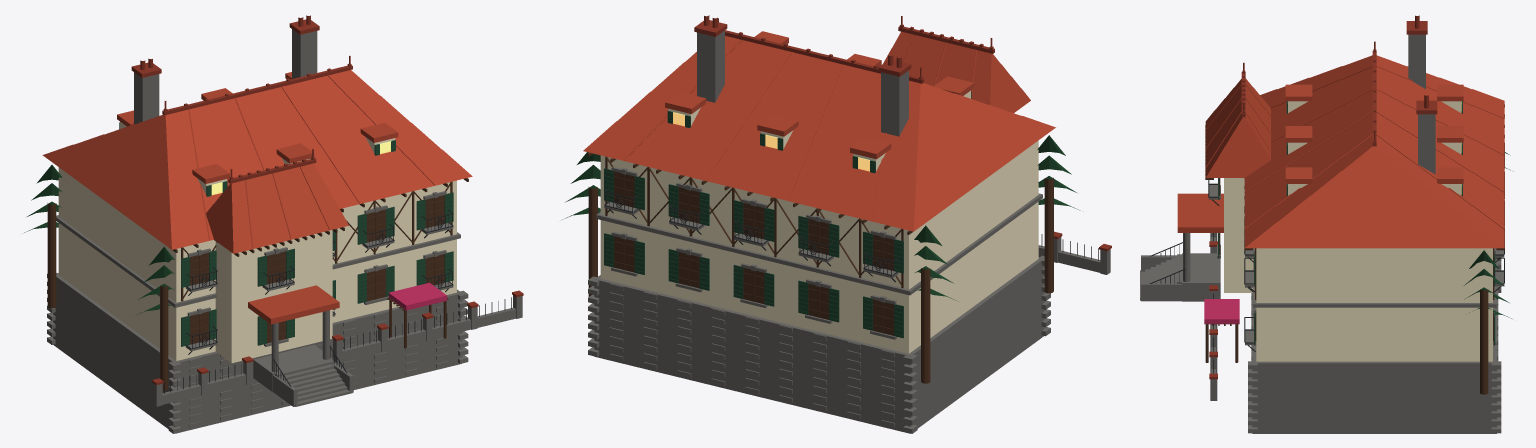
File: fv_qt_08_quang_trung_basque_spanish_villa_03.glb
3 views of the same model, side by side, from view 1: azimuth 30°, elevation 25°; view 2: azimuth 150°, elevation 25°; view 3: azimuth 270°, elevation 25° (orthographic). The views are drawn at different scales.
Parts seen in each view (by area): view 1: marseille_corrugated_roof_tiles, granite_foundation_and_stairs, stucco_facade_and_dormers, colombage_timber_and_eaves, pine_green_louvered_shutters, ridge_cresting_and_chimneys, wrought_iron_balconies_3d, pine_trees_and_garden_hedges, bougainvillea_pergola_clusters; view 2: marseille_corrugated_roof_tiles, granite_foundation_and_stairs, stucco_facade_and_dormers, colombage_timber_and_eaves, pine_green_louvered_shutters, ridge_cresting_and_chimneys, pine_trees_and_garden_hedges, wrought_iron_balconies_3d; view 3: marseille_corrugated_roof_tiles, stucco_facade_and_dormers, granite_foundation_and_stairs, colombage_timber_and_eaves, ridge_cresting_and_chimneys, bougainvillea_pergola_clusters, wrought_iron_balconies_3d, pine_green_louvered_shutters, pine_trees_and_garden_hedges.
Boxes of the visible parts, bbox=[...] form: marseille_corrugated_roof_tiles: bbox=[42, 70, 472, 324]; granite_foundation_and_stairs: bbox=[47, 29, 522, 433]; stucco_facade_and_dormers: bbox=[58, 122, 456, 363]; colombage_timber_and_eaves: bbox=[47, 178, 468, 390]; pine_green_louvered_shutters: bbox=[119, 122, 453, 346]; ridge_cresting_and_chimneys: bbox=[131, 15, 523, 384]; wrought_iron_balconies_3d: bbox=[164, 209, 511, 393]; pine_trees_and_garden_hedges: bbox=[24, 165, 174, 316]; bougainvillea_pergola_clusters: bbox=[388, 282, 447, 310]; marseille_corrugated_roof_tiles: bbox=[583, 31, 1055, 231]; granite_foundation_and_stairs: bbox=[588, 30, 1110, 433]; stucco_facade_and_dormers: bbox=[600, 90, 1038, 353]; colombage_timber_and_eaves: bbox=[587, 152, 1053, 383]; pine_green_louvered_shutters: bbox=[604, 91, 971, 338]; ridge_cresting_and_chimneys: bbox=[694, 15, 1111, 251]; pine_trees_and_garden_hedges: bbox=[562, 135, 1080, 300]; wrought_iron_balconies_3d: bbox=[604, 187, 1098, 282]; marseille_corrugated_roof_tiles: bbox=[1177, 55, 1504, 248]; stucco_facade_and_dormers: bbox=[1224, 101, 1492, 361]; granite_foundation_and_stairs: bbox=[1140, 34, 1504, 433]; colombage_timber_and_eaves: bbox=[1205, 104, 1504, 394]; ridge_cresting_and_chimneys: bbox=[1209, 15, 1437, 379]; bougainvillea_pergola_clusters: bbox=[1204, 299, 1239, 324]; wrought_iron_balconies_3d: bbox=[1149, 143, 1504, 373]; pine_green_louvered_shutters: bbox=[1218, 101, 1495, 345]; pine_trees_and_garden_hedges: bbox=[1464, 152, 1511, 318].
Bounding box in the file's own units: 25.94 × 20.33 × 23.25.
